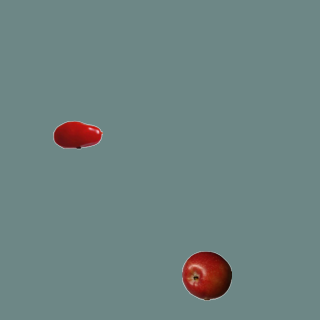Apple Braeburn: (181, 250, 231, 300)
Tomato 2: (52, 109, 102, 159)
